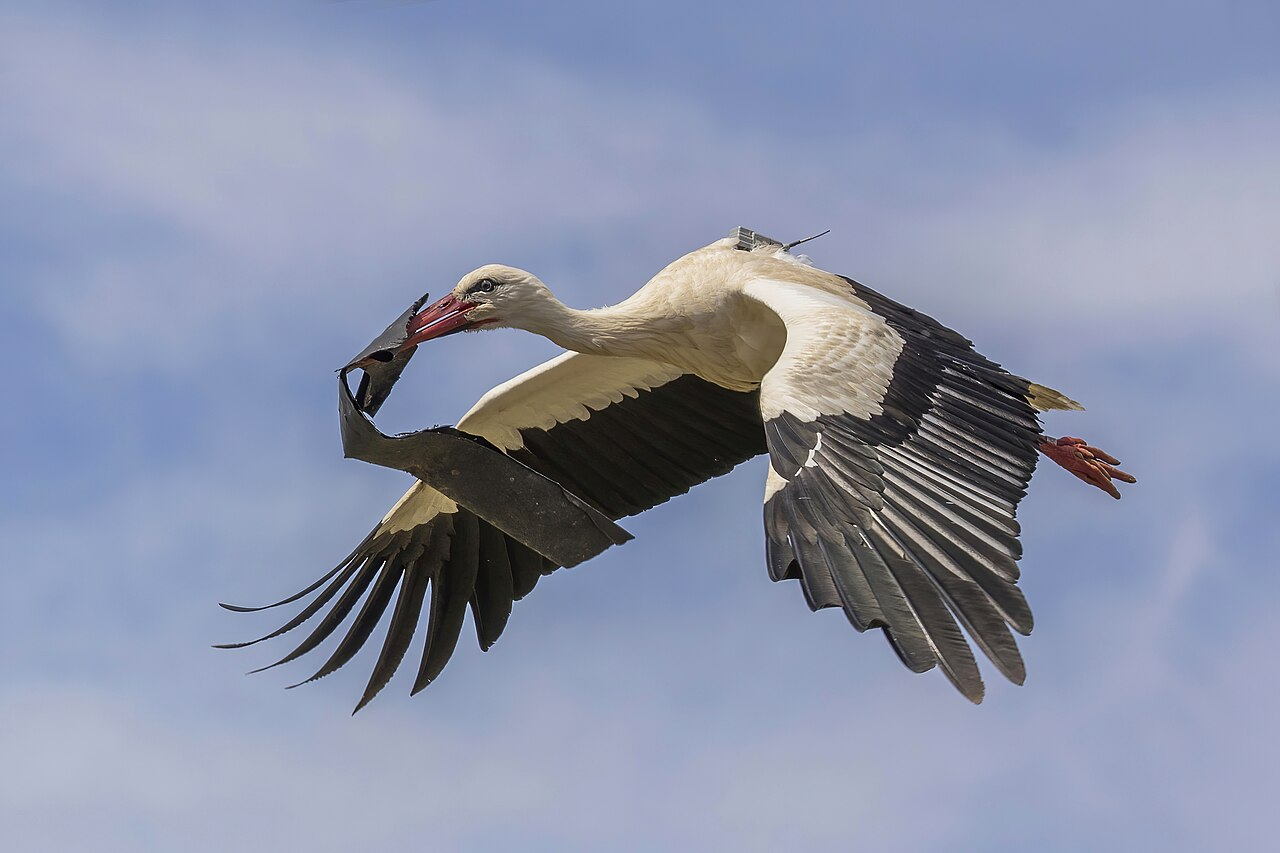bird: (211, 220, 1137, 723)
